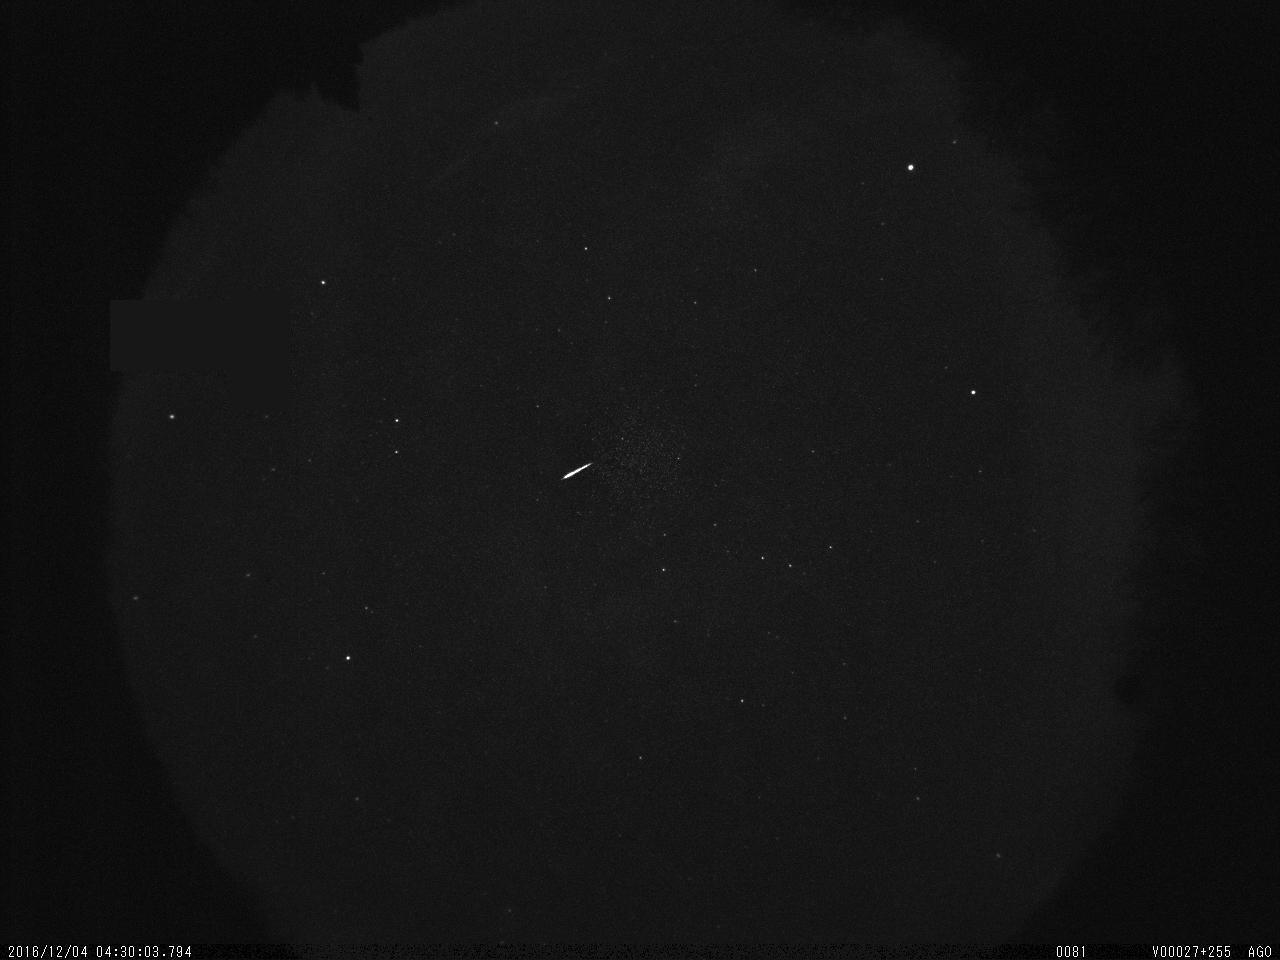Meteor: (561, 461, 592, 481)
